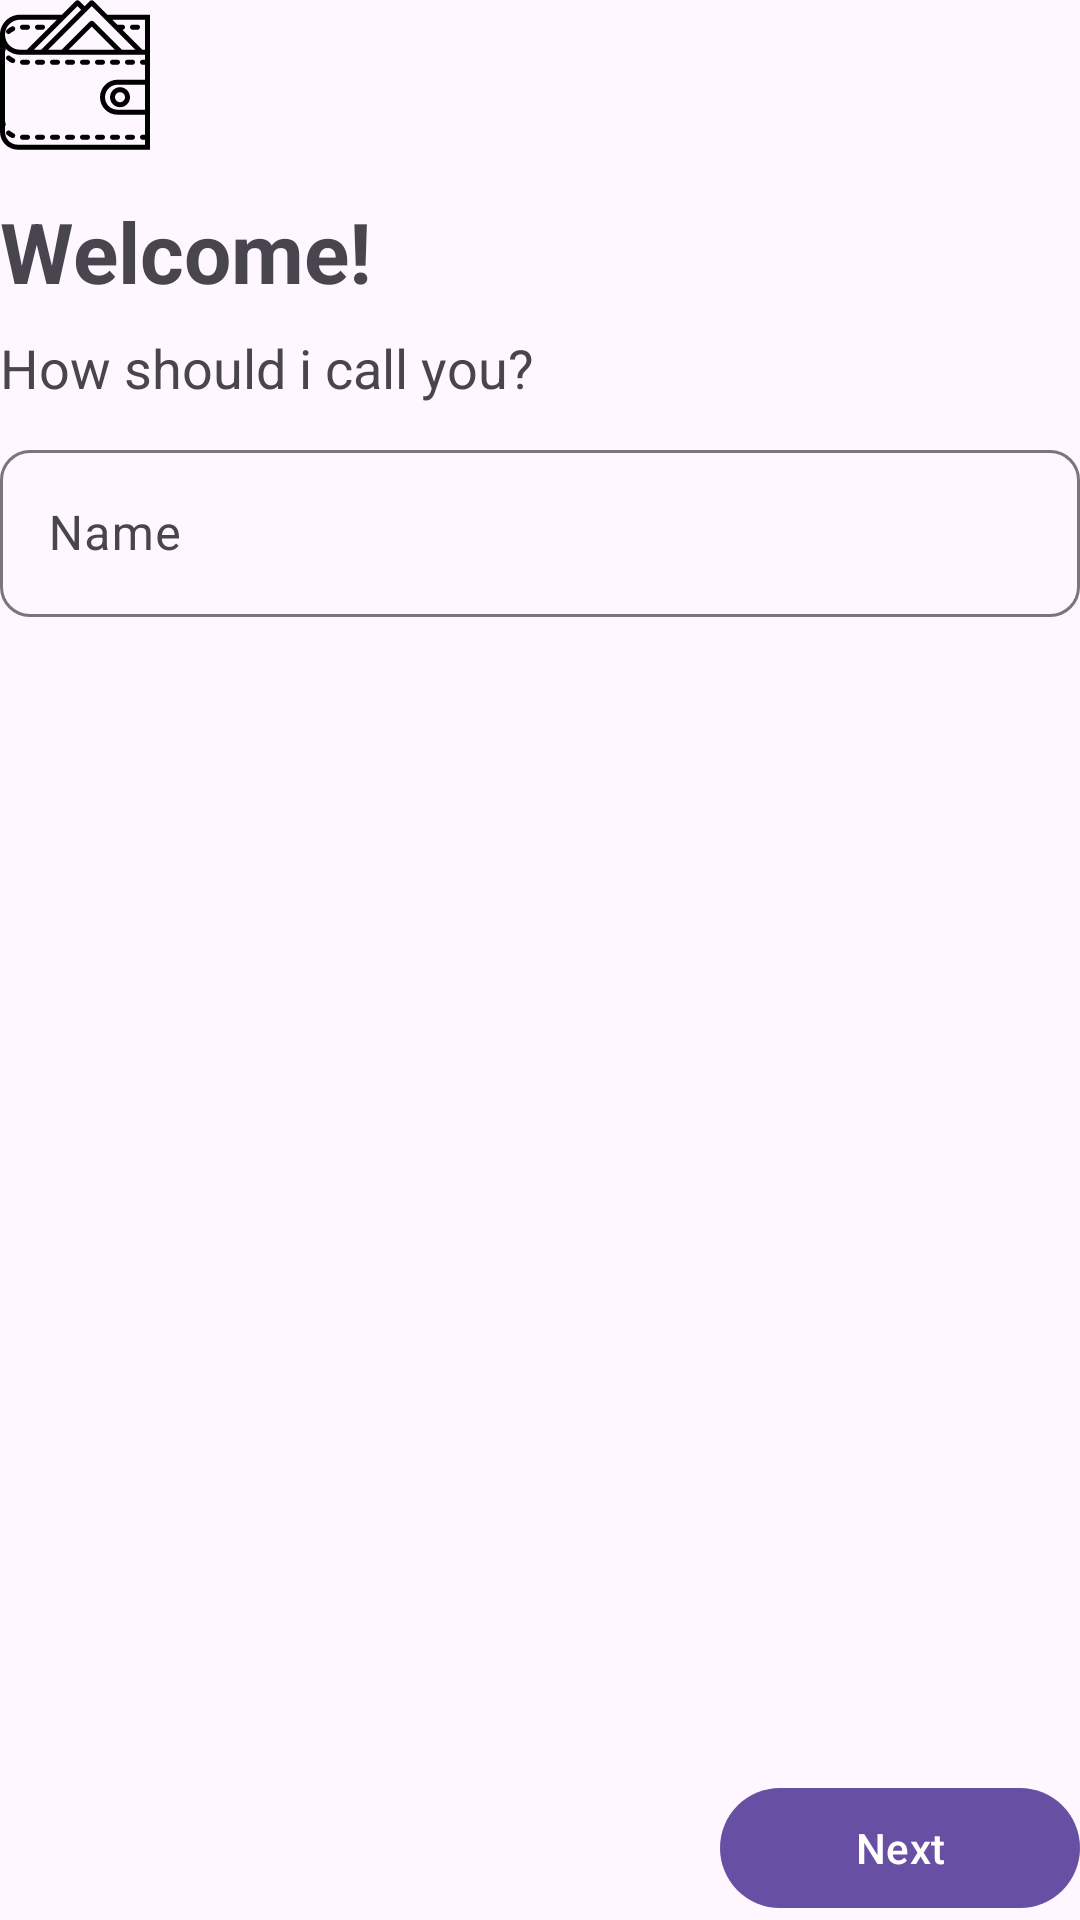

Named icons in this screenshot (1080*1920) and their bounding boxes, (x1, y1, x2, y2):
App Icon: (0, 0, 150, 150)
